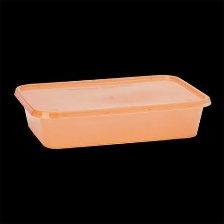plastic_box: (6, 67, 216, 156)
